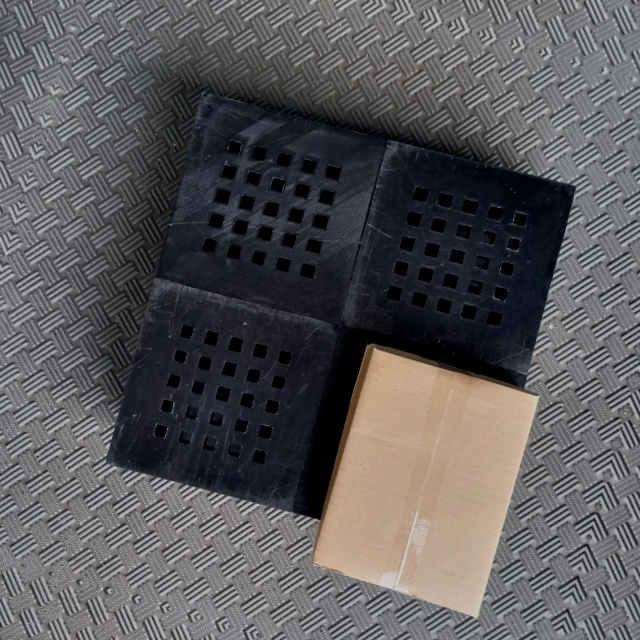box: (308, 343, 541, 618)
pallet: (92, 73, 588, 581)
